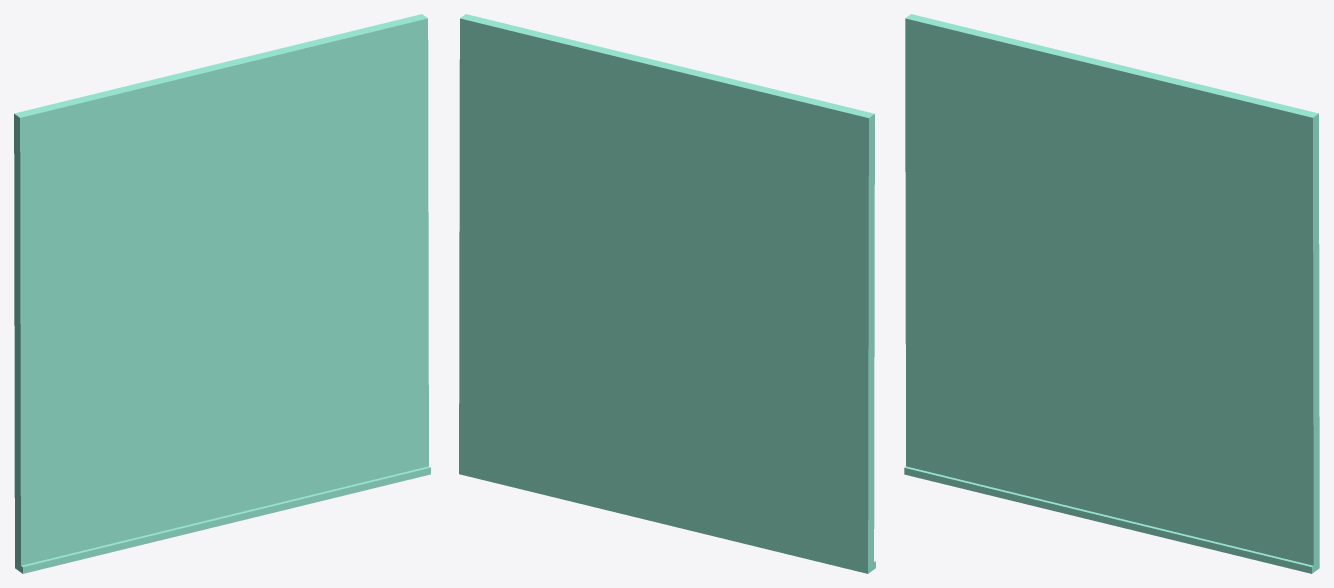
The model's file is BackWall.glb.
3 renders of one model, left to right at view 1: azimuth 30°, elevation 25°; view 2: azimuth 150°, elevation 25°; view 3: azimuth 330°, elevation 25°, orthographic.
Parts seen in each view (by area): view 1: Ground.002; view 2: Ground.002; view 3: Ground.002.
Part boxes in pixels (left/top/right/bottom): Ground.002: left=14, top=14, right=430, bottom=573; Ground.002: left=459, top=14, right=875, bottom=573; Ground.002: left=904, top=14, right=1319, bottom=573.
Bounding box in the file's own units: 9.12 × 9.69 × 0.3051.
